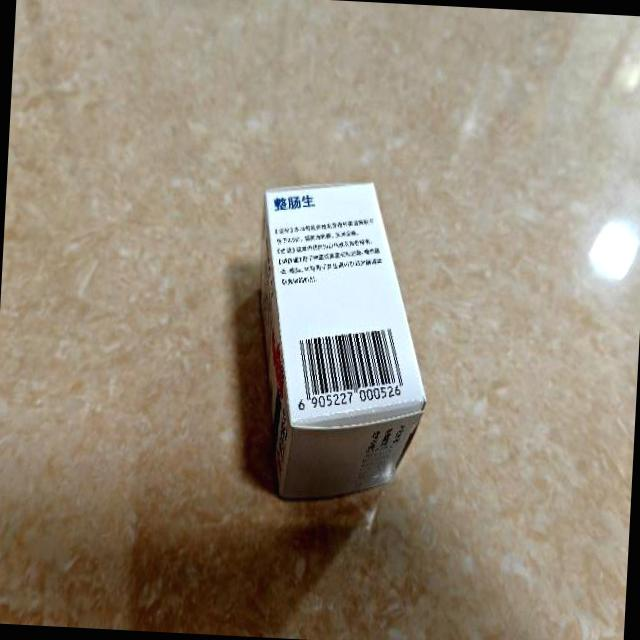box: (248, 175, 438, 508)
